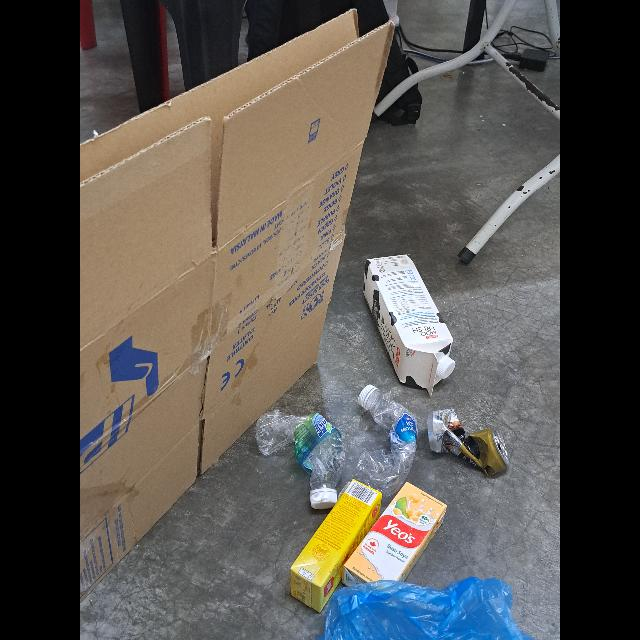aba de lata: (499, 441, 508, 457)
caixinha: (363, 254, 453, 396), (290, 478, 382, 614), (342, 482, 448, 586)
garrafa plástica: (256, 410, 346, 490), (356, 389, 418, 497)
lata: (428, 409, 510, 477)
papelão: (80, 9, 398, 601)
sacola plástica: (319, 576, 533, 640)
tampa plástica: (310, 488, 338, 509), (358, 384, 377, 408), (436, 357, 456, 378)
